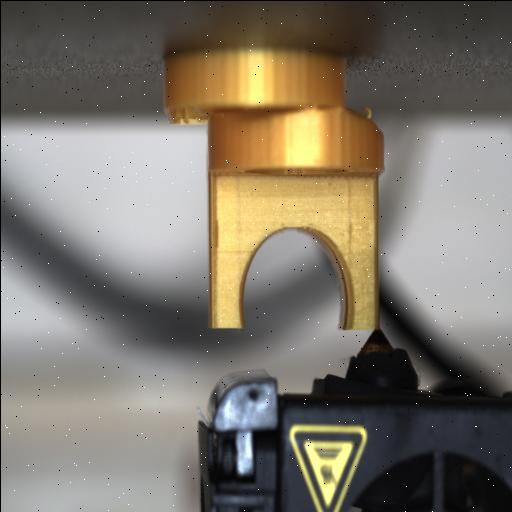layer_shift: (158, 98, 379, 134)
